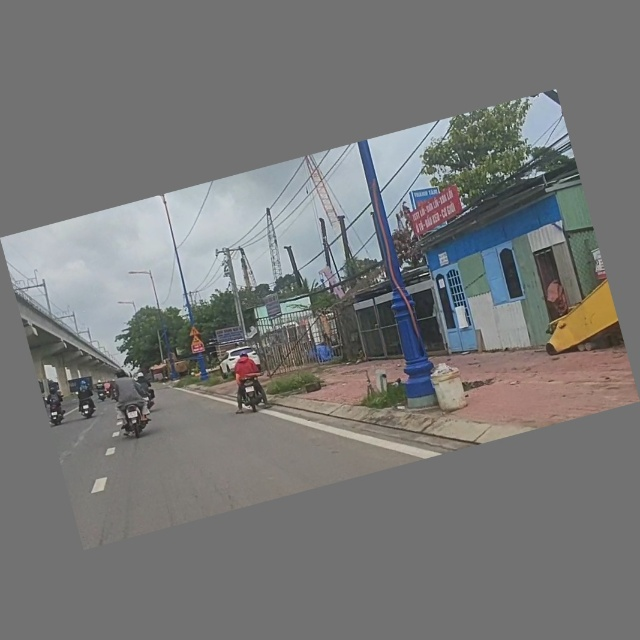W.203c: (187, 325, 201, 337)
W.245a: (189, 334, 204, 347)
